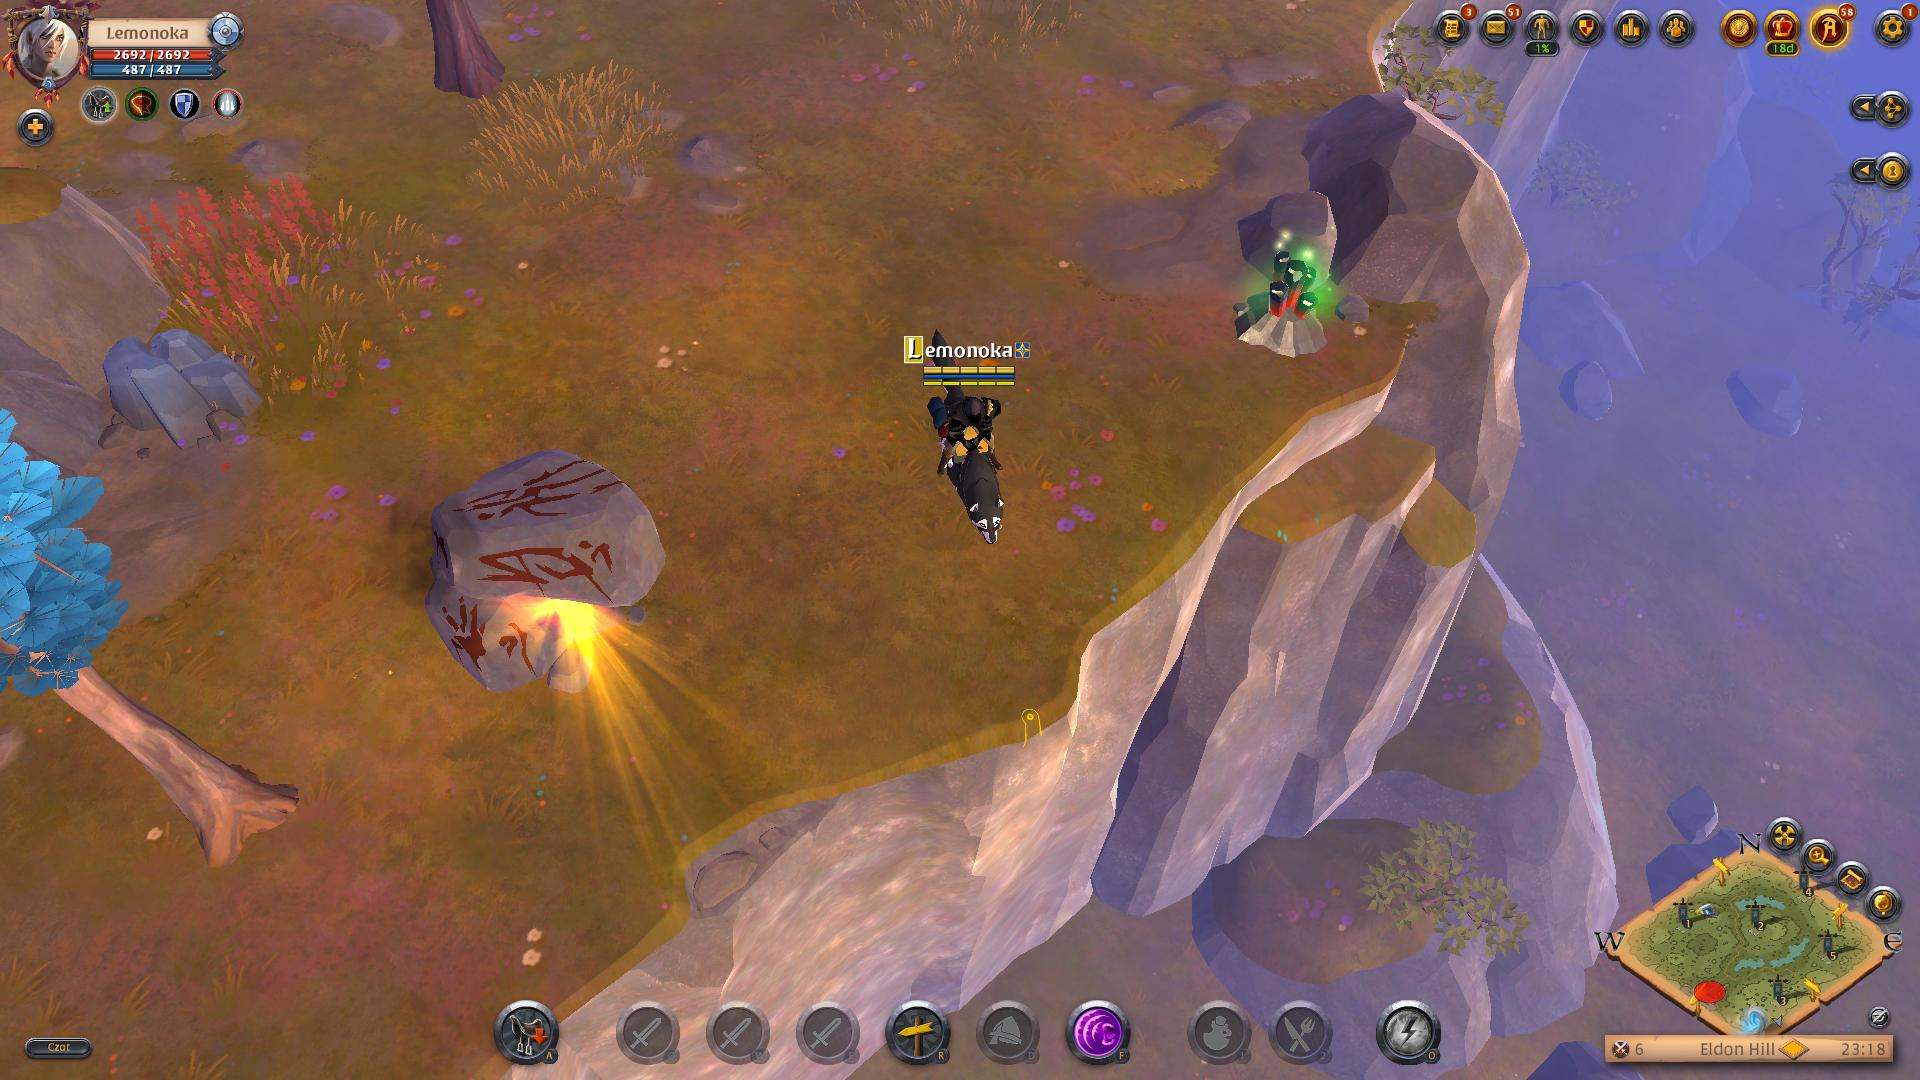ore tier 5: (1230, 241, 1341, 367)
rock tier 4: (94, 328, 268, 454)
